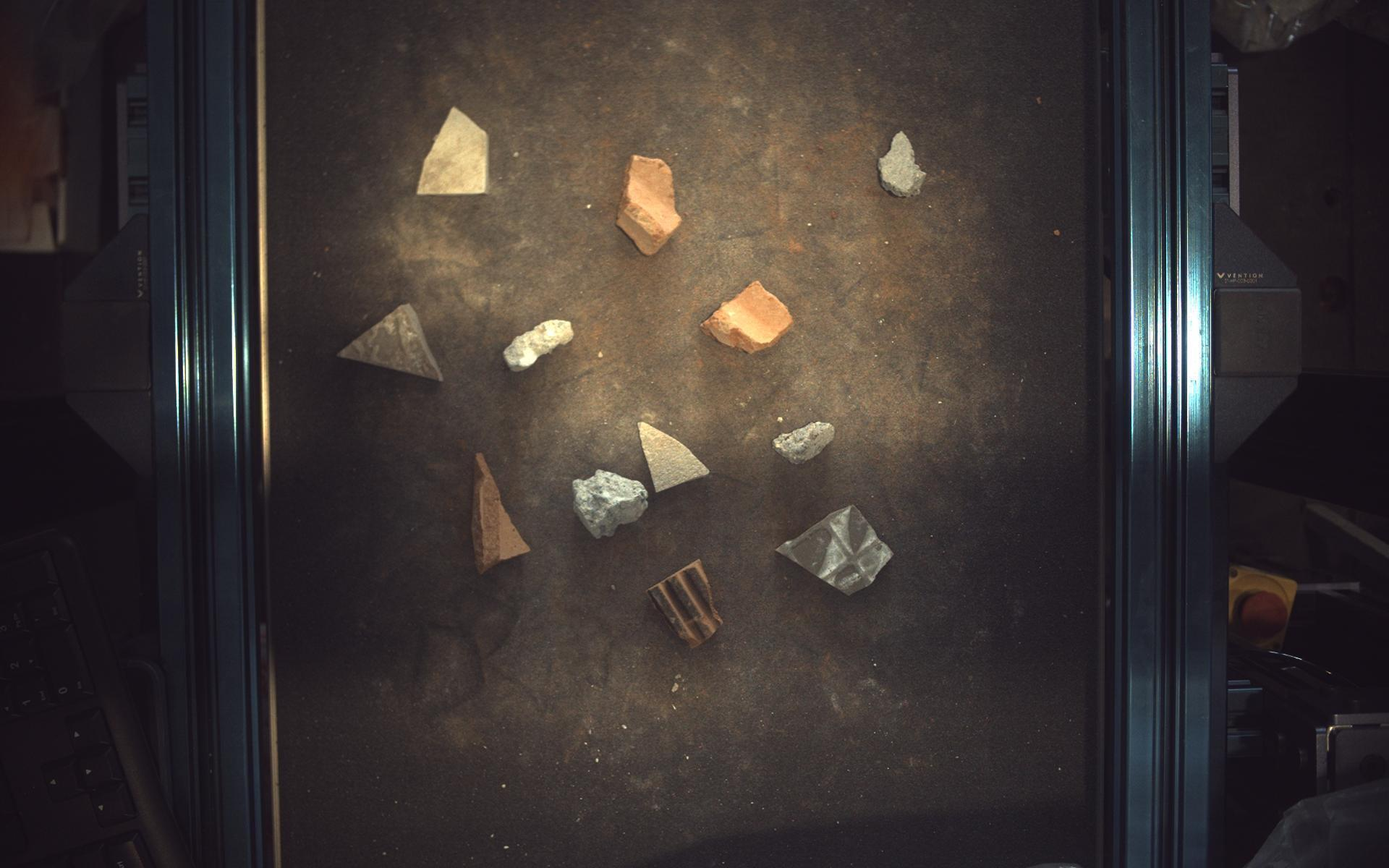brick: (472, 453, 530, 575), (702, 280, 794, 354), (617, 154, 683, 255), (649, 560, 723, 649)
concrete: (574, 469, 648, 540), (504, 320, 574, 372), (880, 131, 928, 197), (775, 422, 836, 464)
tile: (778, 506, 894, 596), (337, 304, 443, 380), (417, 106, 488, 194), (639, 422, 710, 493)
